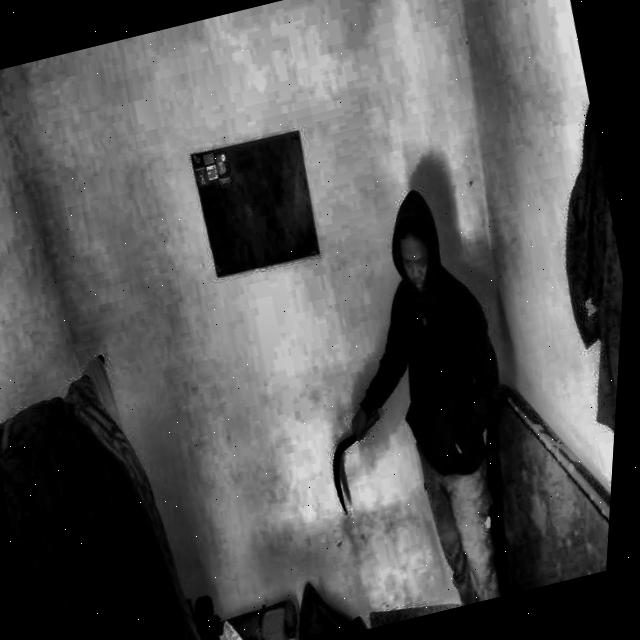celurit: (310, 390, 396, 523)
